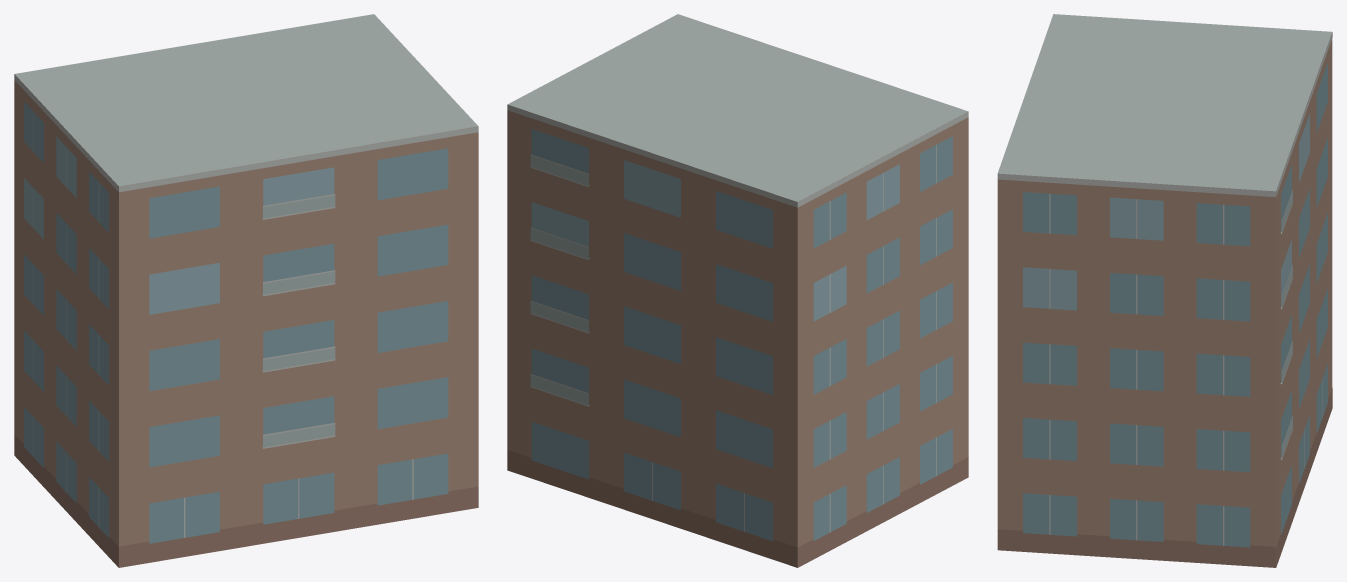
File: survey-upis-32672469.glb
3 views of the same model, side by side, from view 1: azimuth 30°, elevation 25°; view 2: azimuth 150°, elevation 25°; view 3: azimuth 270°, elevation 25° (orthographic). The views are drawn at different scales.
Parts seen in each view (by area): view 1: survey-upis-32672469.tmp; view 2: survey-upis-32672469.tmp; view 3: survey-upis-32672469.tmp.
Part boxes in pixels (x1,y1,x2,y2): survey-upis-32672469.tmp: (14,14,478,567); survey-upis-32672469.tmp: (507,14,968,567); survey-upis-32672469.tmp: (997,14,1332,567).
Bounding box in the file's own units: 15.87 × 15.7 × 12.67.
